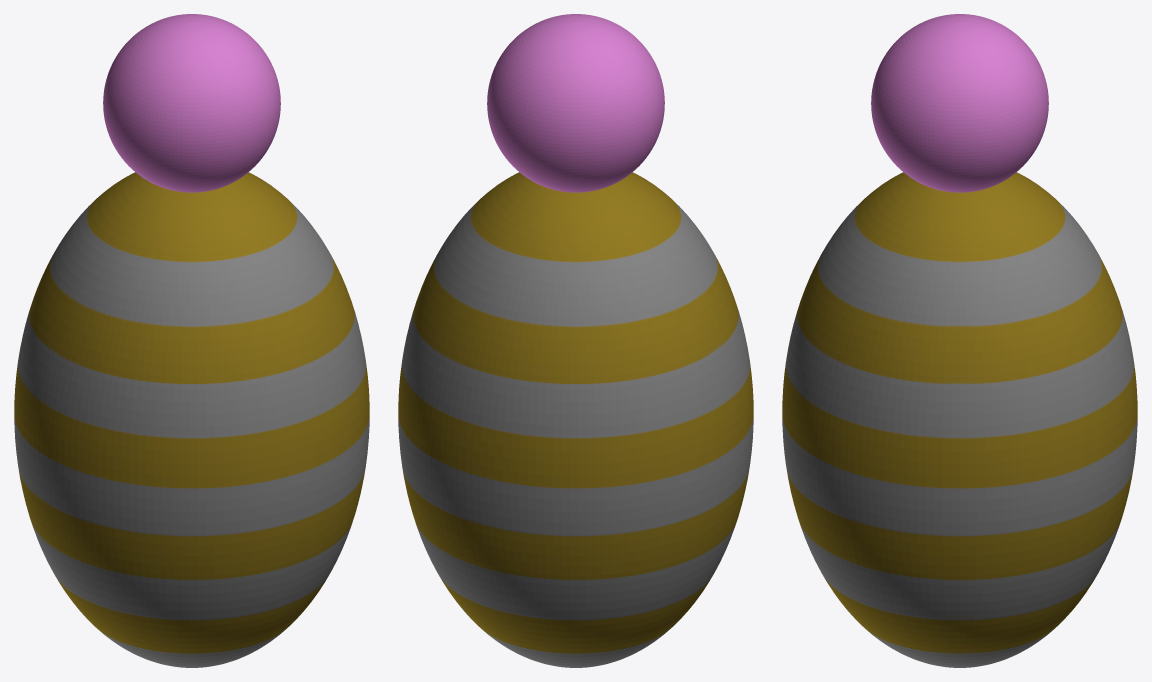
The model's file is BOD2_BMC4_BCC0_BPT2_FRC0_HEA0_HMC10_HCC0_HPT0_ELT0_ERT0_ELL0_ERL0_AP0_AAL0_AAR0_BEK0.fbx.
3 views of the same model, side by side, from view 1: azimuth 30°, elevation 25°; view 2: azimuth 150°, elevation 25°; view 3: azimuth 270°, elevation 25° (orthographic).
Visible parts, largest first — view 1: Body, Head; view 2: Body, Head; view 3: Body, Head.
Boxes of the visible parts, x1,y1,x2,y2 form: Body: (14, 172, 369, 667); Head: (103, 14, 280, 192); Body: (398, 172, 753, 667); Head: (487, 14, 664, 192); Body: (782, 172, 1137, 667); Head: (871, 14, 1048, 192).
Size of the model in its own units: 98.72 by 195 by 98.72.
2 materials, 2 textured.
